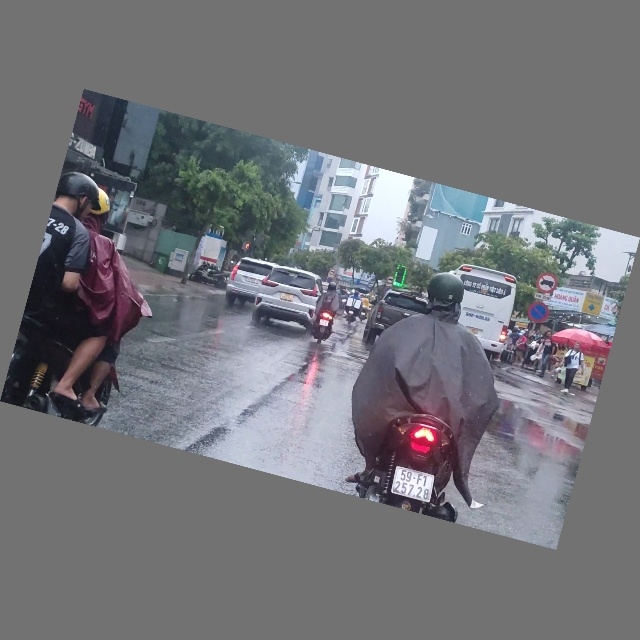P.106a*Xe tai: (534, 271, 561, 297), (386, 275, 396, 285), (329, 269, 337, 276)
P.131a: (525, 299, 552, 326)
